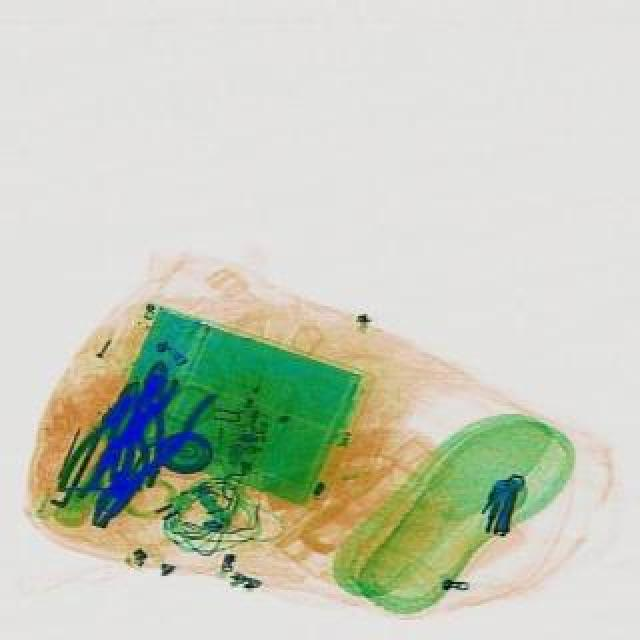wrench: (70, 368, 216, 540), (100, 354, 186, 488)
